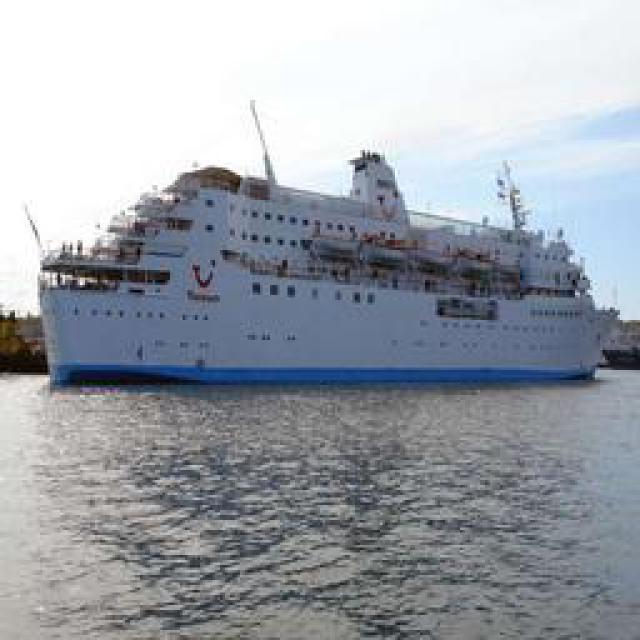Ship: (37, 114, 610, 387)
